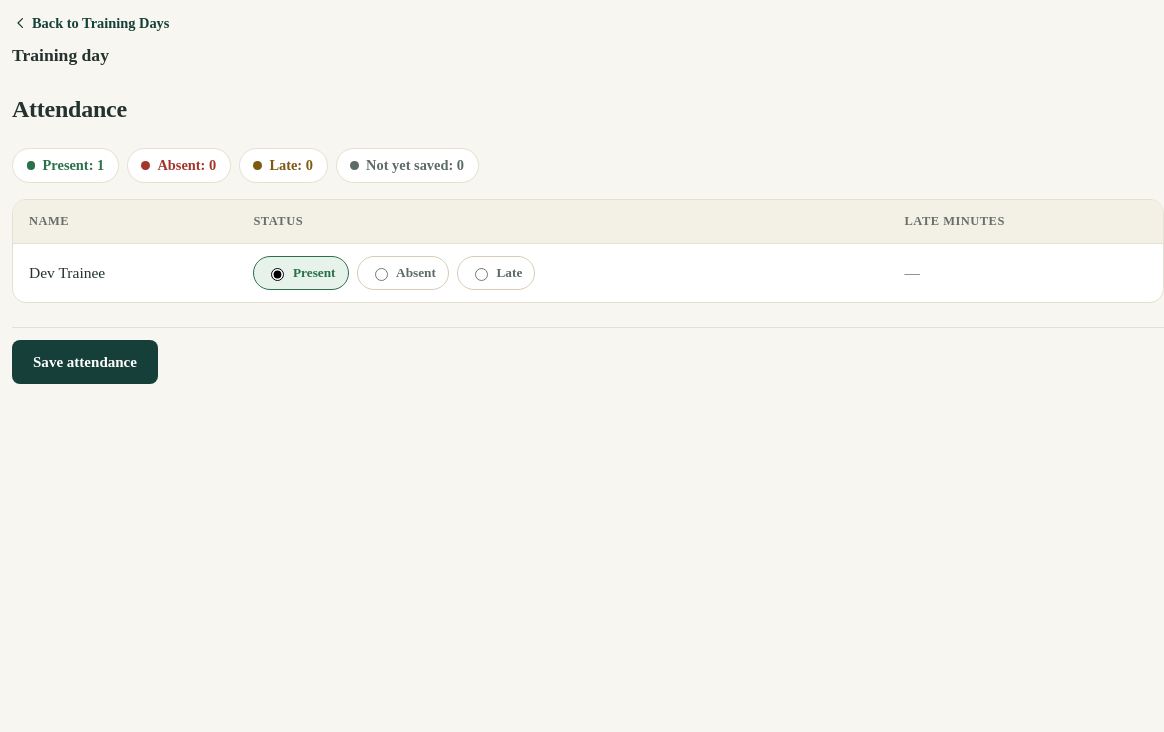
Test: Supervisor attendance page › surfaces a server validation error instead of silently failing the save
The width and height of the screenshot is (1164, 732).
Expected: the text "Dev Trainee" is shown, left=13, top=244, right=237, bottom=302
Click the button "Save attendance". click: (85, 362)
box: left=12, top=340, right=158, bottom=384
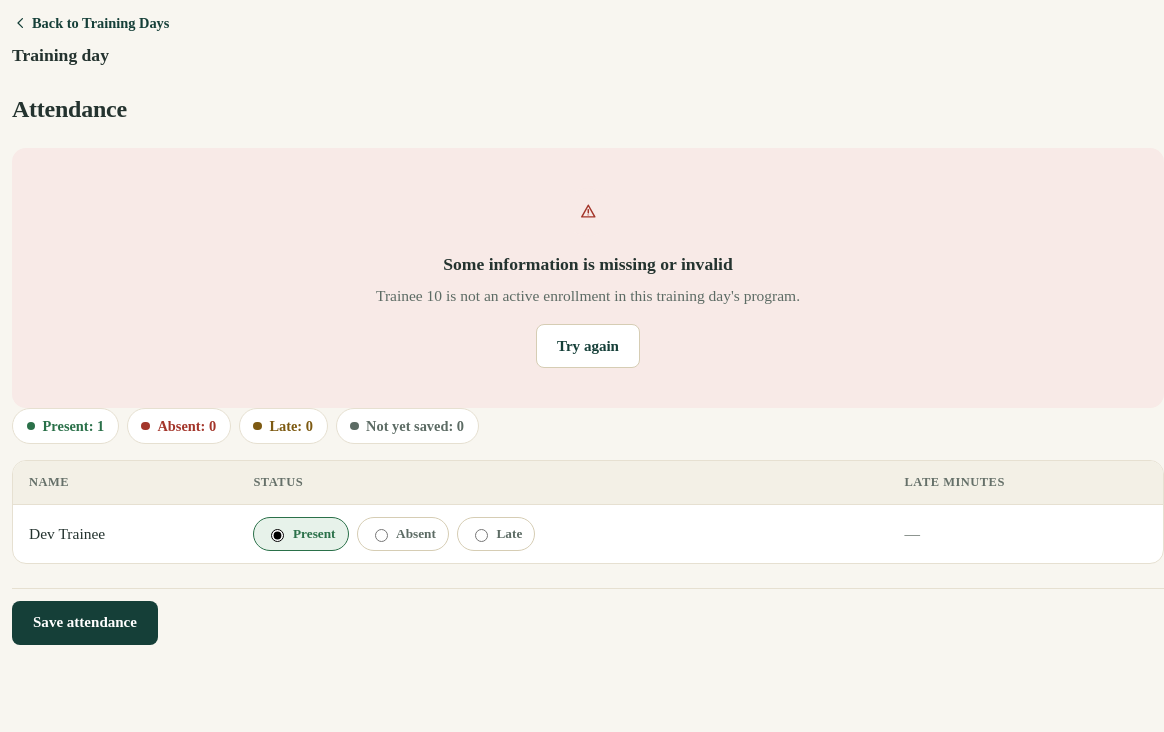
Result: the text "Trainee 10 is not an active enrollment in this training day's program." is shown at left=376, top=287, right=800, bottom=304
